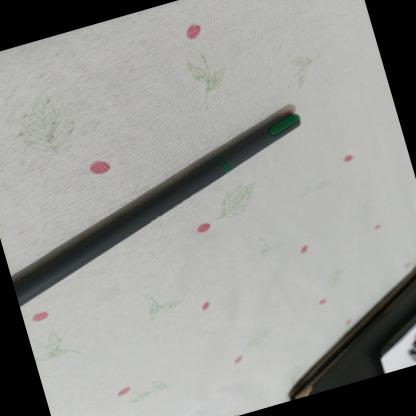pencil: (0, 101, 335, 312)
